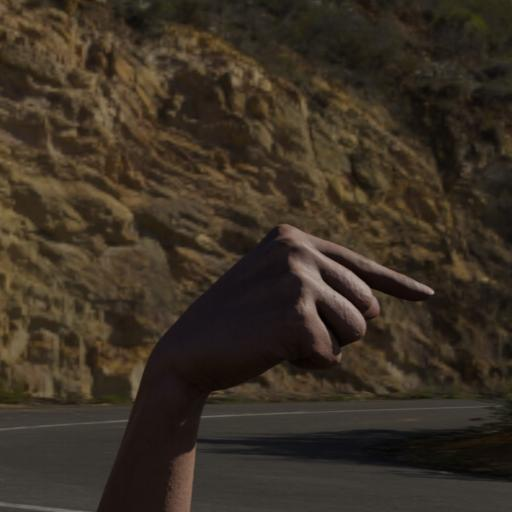G: (126, 214, 451, 442)
